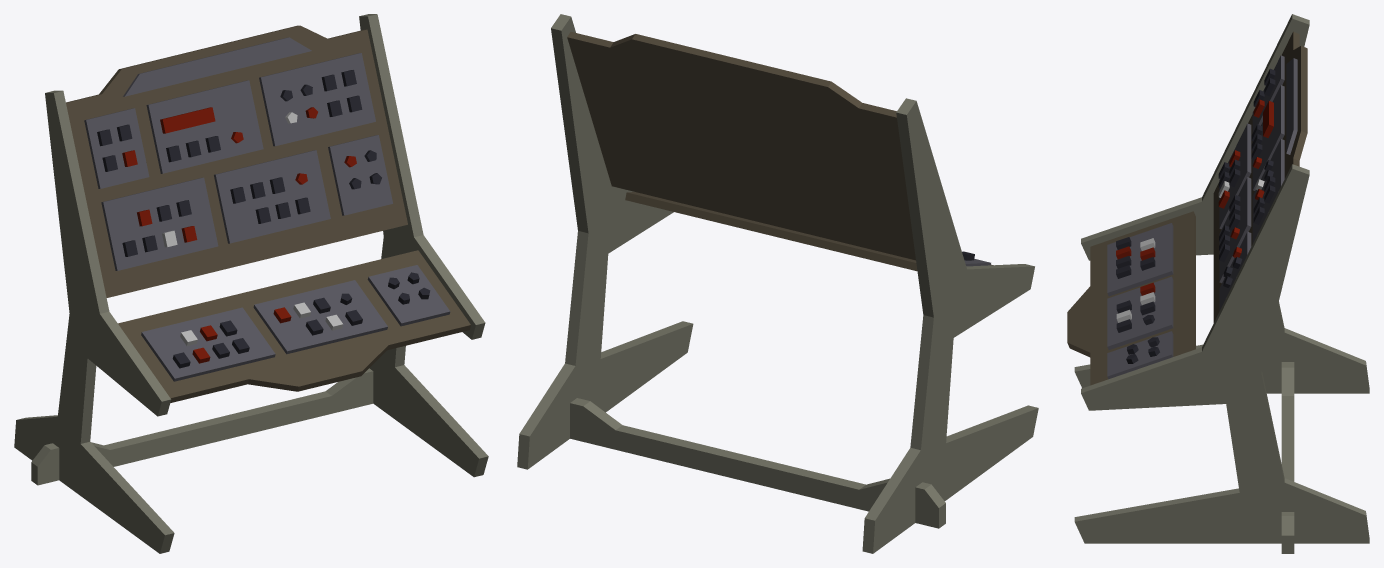
File: LPSciFiCharacter_TerminalA.fbx
3 views of the same model, side by side, from view 1: azimuth 30°, elevation 25°; view 2: azimuth 150°, elevation 25°; view 3: azimuth 270°, elevation 25° (orthographic). The views are drawn at different scales.
Visible parts, largest first — view 1: TerminalA; view 2: TerminalA; view 3: TerminalA.
Boxes of the visible parts, x1=… form: TerminalA: x1=14, y1=14, x2=488, y2=553; TerminalA: x1=517, y1=14, x2=1038, y2=553; TerminalA: x1=1067, y1=14, x2=1369, y2=553.
Bounding box in the file's own units: 151 × 152 × 110.
